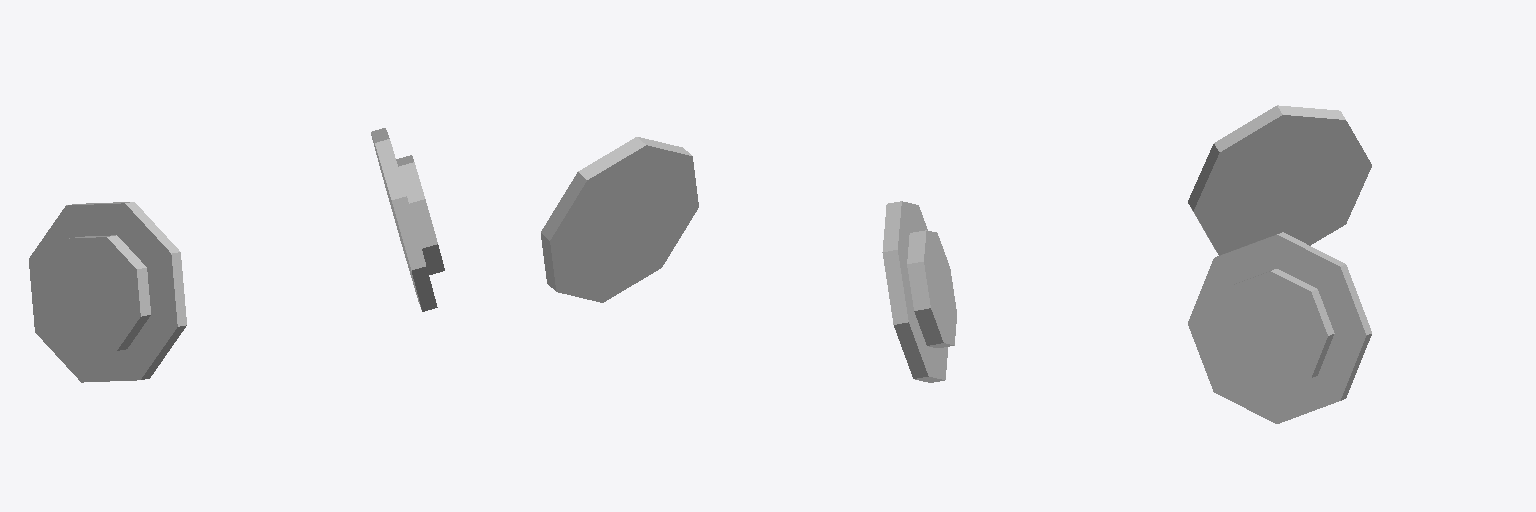
The model's file is eyes.obj.
3 renders of one model, left to right at view 1: azimuth 30°, elevation 25°; view 2: azimuth 150°, elevation 25°; view 3: azimuth 270°, elevation 25°, orthographic.
Visible parts, largest first — view 1: pCylinder1_Mesh.027; view 2: pCylinder1_Mesh.027; view 3: pCylinder1_Mesh.027.
Part boxes in pixels (left/top/right/bottom): pCylinder1_Mesh.027: left=29, top=128, right=444, bottom=382; pCylinder1_Mesh.027: left=541, top=137, right=956, bottom=382; pCylinder1_Mesh.027: left=1188, top=105, right=1371, bottom=423.
Size of the model in its own units: 0.0899 by 0.0386 by 0.0376.